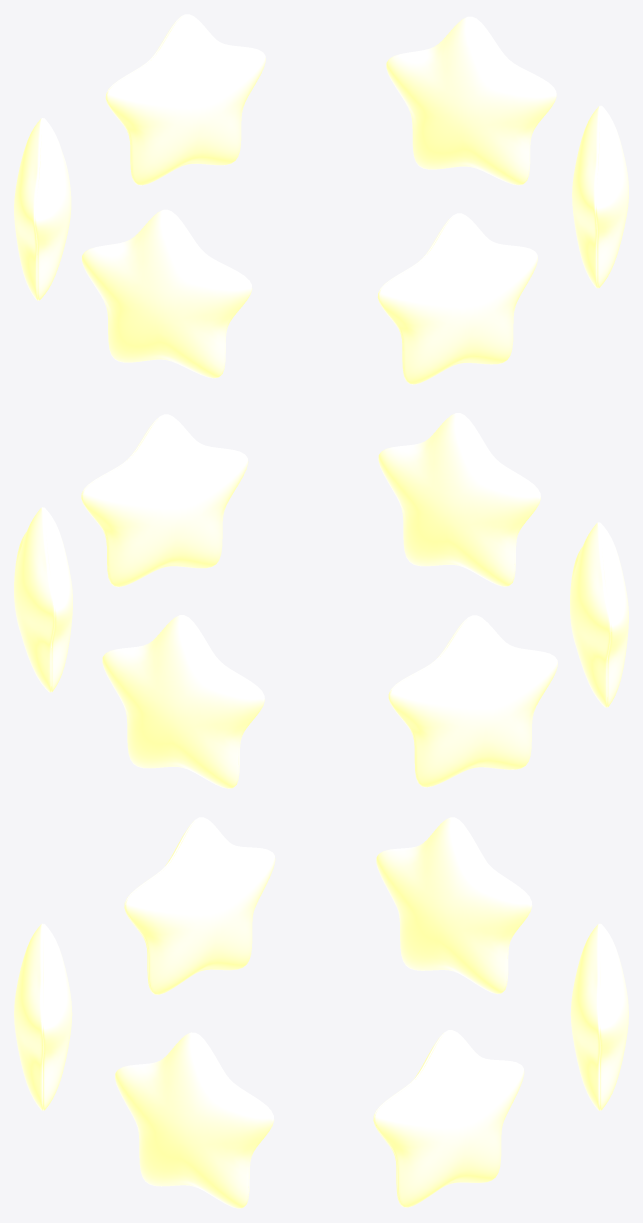
Rendered from knockOutStars.glb.
3 views of the same model, one above another, from view 1: azimuth 30°, elevation 25°; view 2: azimuth 150°, elevation 25°; view 3: azimuth 270°, elevation 25° (orthographic). The views are drawn at different scales.
Parts seen in each view (by area): view 1: Circle_0.005, Circle_0.004, Circle_0, Circle_0.001, Circle_0.003, Circle_0.002; view 2: Circle_0.003, Circle_0.002, Circle_0, Circle_0.001, Circle_0.004, Circle_0.005; view 3: Circle_0.002, Circle_0.003, Circle_0.004, Circle_0.005, Circle_0.001, Circle_0.
Part boxes in pixels (x1,y1,x2,y2): Circle_0.005: [386, 16, 556, 185]; Circle_0.004: [81, 209, 252, 378]; Circle_0: [105, 14, 265, 185]; Circle_0.001: [377, 213, 537, 384]; Circle_0.003: [14, 118, 71, 300]; Circle_0.002: [572, 105, 628, 288]; Circle_0.003: [388, 615, 557, 787]; Circle_0.002: [81, 414, 248, 587]; Circle_0: [102, 615, 264, 788]; Circle_0.001: [378, 413, 540, 586]; Circle_0.004: [570, 522, 628, 707]; Circle_0.005: [14, 507, 72, 692]; Circle_0.002: [115, 1032, 274, 1208]; Circle_0.003: [376, 817, 532, 993]; Circle_0.004: [124, 817, 275, 994]; Circle_0.005: [373, 1030, 524, 1207]; Circle_0.001: [14, 923, 72, 1110]; Circle_0: [570, 923, 628, 1110].
Size of the model in its own units: 4.92 by 1.43 by 4.87.
